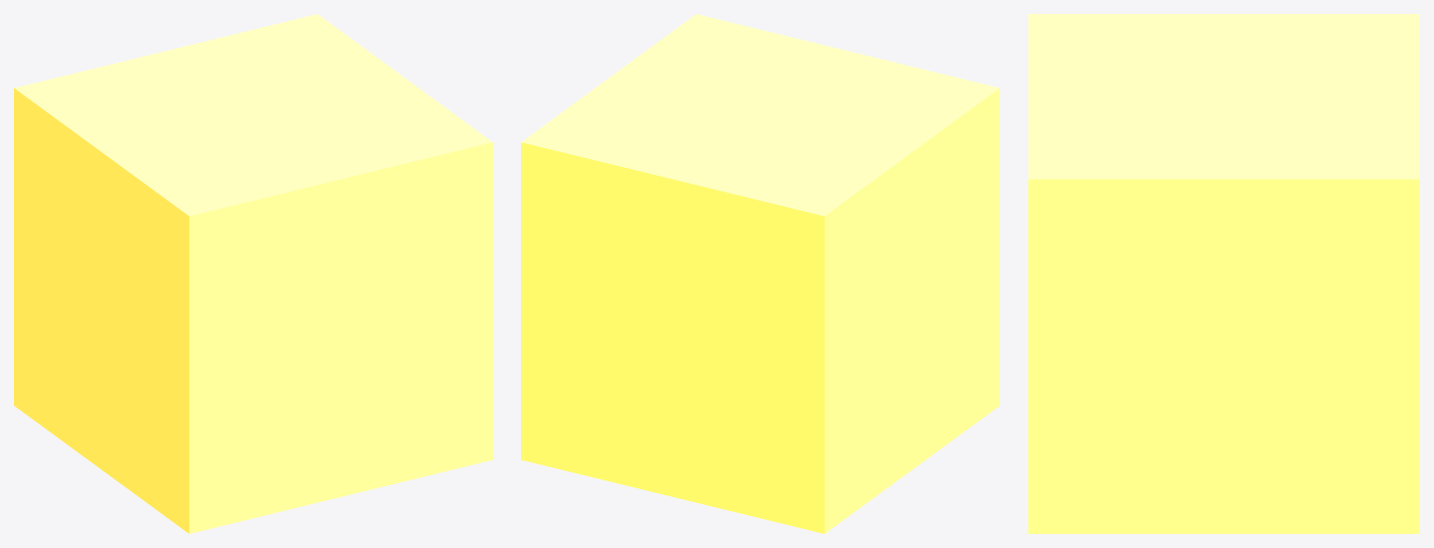
The model's file is kuutio.gltf.
3 views of the same model, side by side, from view 1: azimuth 30°, elevation 25°; view 2: azimuth 150°, elevation 25°; view 3: azimuth 270°, elevation 25° (orthographic). The views are drawn at different scales.
Visible parts, largest first — view 1: kubiikkeli; view 2: kubiikkeli; view 3: kubiikkeli.
Part boxes in pixels (x1,y1,x2,y2): kubiikkeli: (14, 14, 492, 533); kubiikkeli: (521, 14, 999, 533); kubiikkeli: (1028, 14, 1419, 533).
Size of the model in its own units: 2 by 2 by 2.
